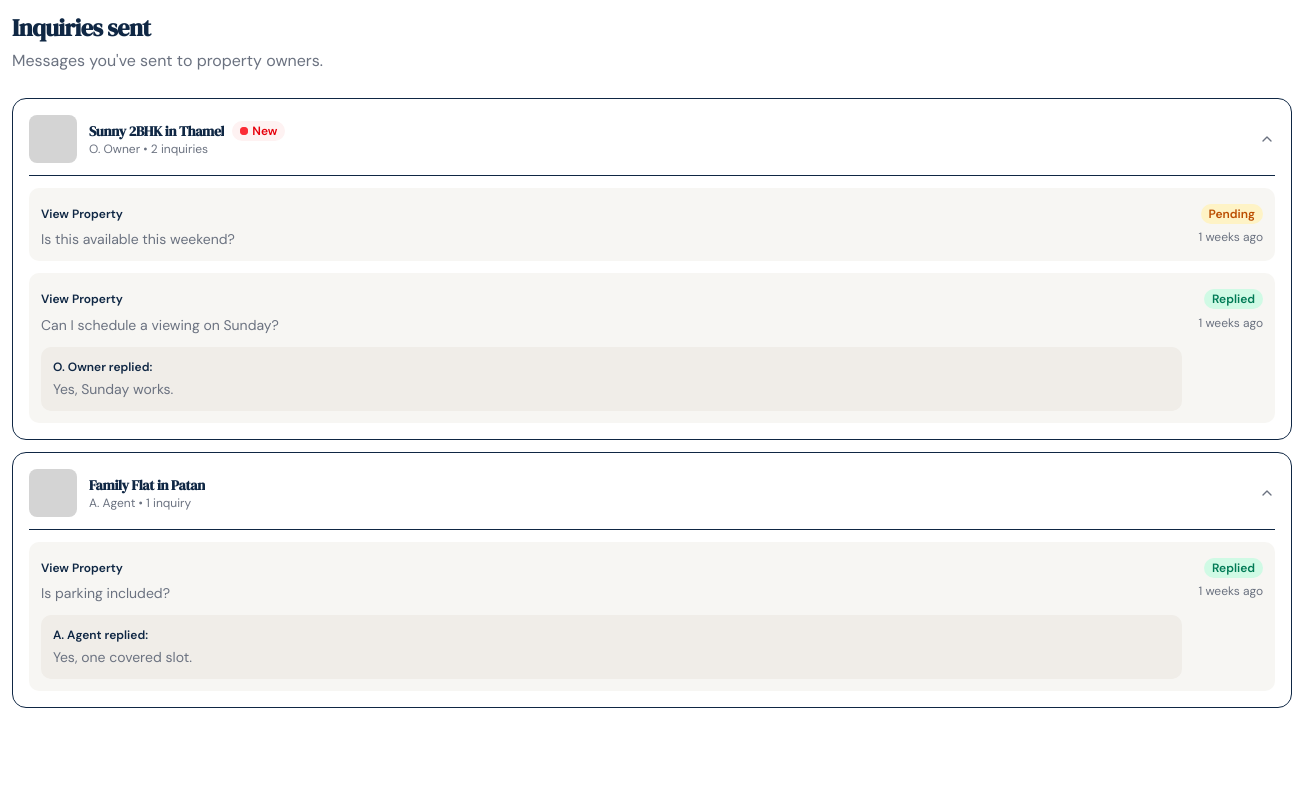
Scenario: Dashboard inquiries grouping › groups inquiries by property and supports collapse with property context
The image size is (1292, 812).
Check: the element "Sunny 2BHK in Thamel" is shown, box 12,98 -> 1291,440
Check: the text "New" is shown, box 232,121 -> 285,141
What coordinates should you click on to do the following:
click the button "Sunny 2BHK in Thamel New O. Owner • 2 inquiries"
I would click on:
 (53, 139)
Its box is 29,115 -> 1275,163.
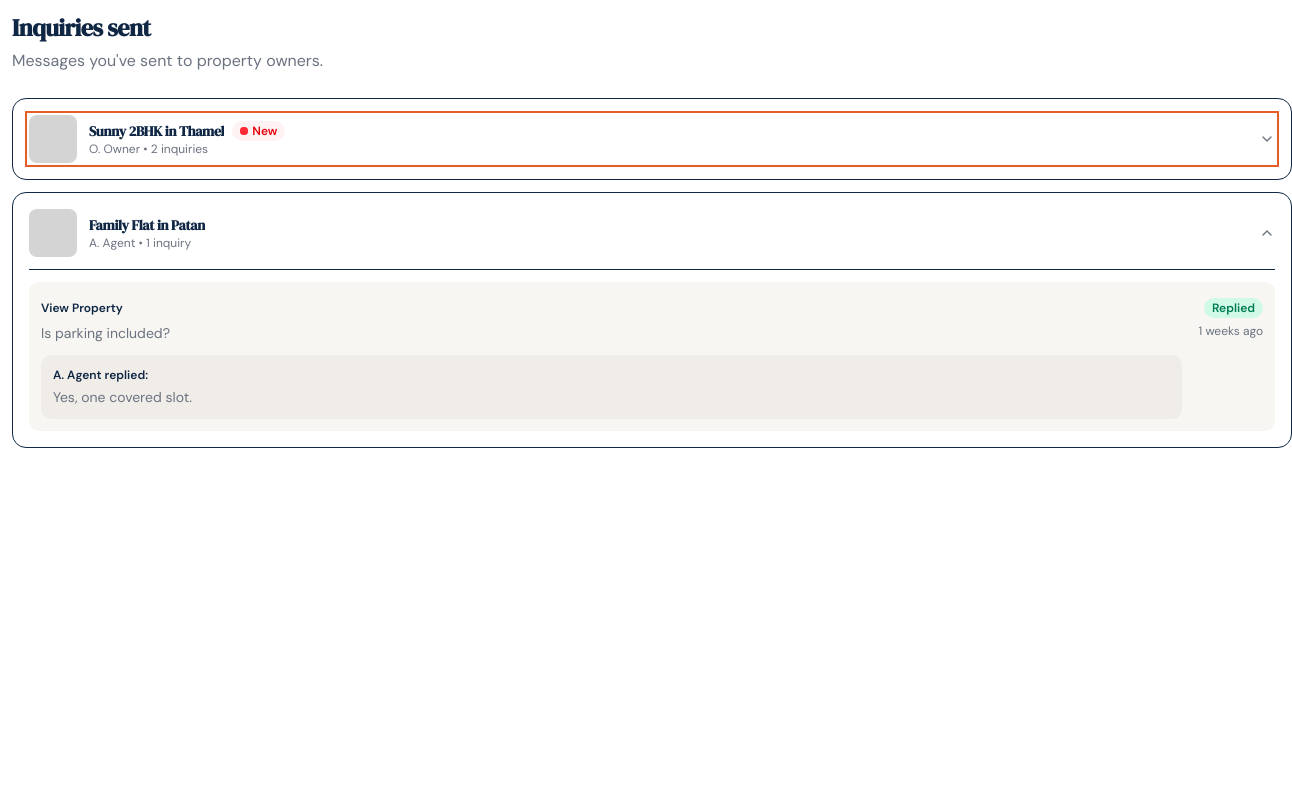
Check: the text "Is this available this weekend" is gone
Check: the text "Can I schedule a viewing on Sunday" is gone
